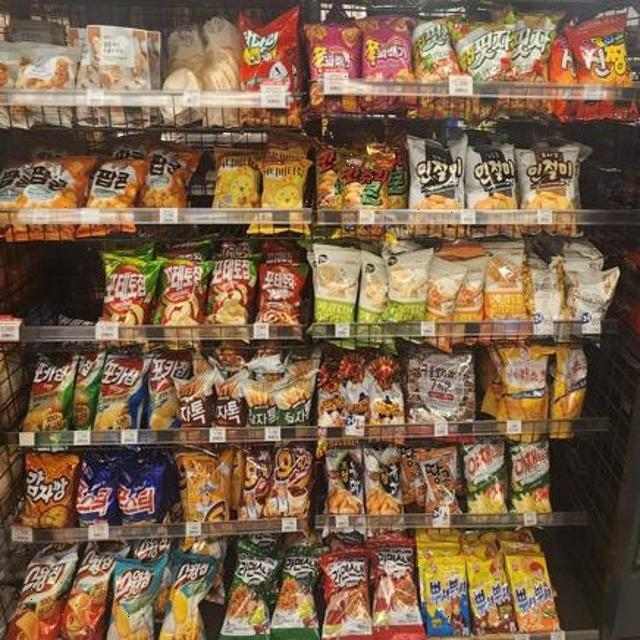product: (574, 16, 640, 118), (239, 18, 302, 121), (410, 138, 468, 234), (521, 145, 585, 231), (308, 22, 365, 115), (23, 453, 79, 545), (19, 553, 78, 640), (368, 542, 420, 636), (369, 11, 418, 110), (97, 259, 159, 337), (320, 552, 370, 639), (30, 157, 87, 233), (469, 147, 520, 230), (258, 155, 310, 231), (210, 255, 258, 337), (110, 561, 159, 640), (157, 261, 207, 336), (117, 462, 167, 536), (339, 152, 385, 230), (320, 447, 366, 522), (23, 359, 67, 437), (427, 561, 472, 633), (474, 560, 516, 631), (516, 555, 555, 626), (149, 359, 187, 430)
